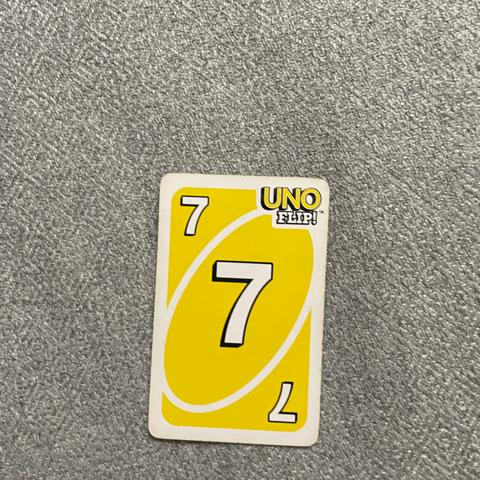skip_red: (192, 256, 280, 352), (260, 372, 302, 427), (173, 191, 217, 243)
